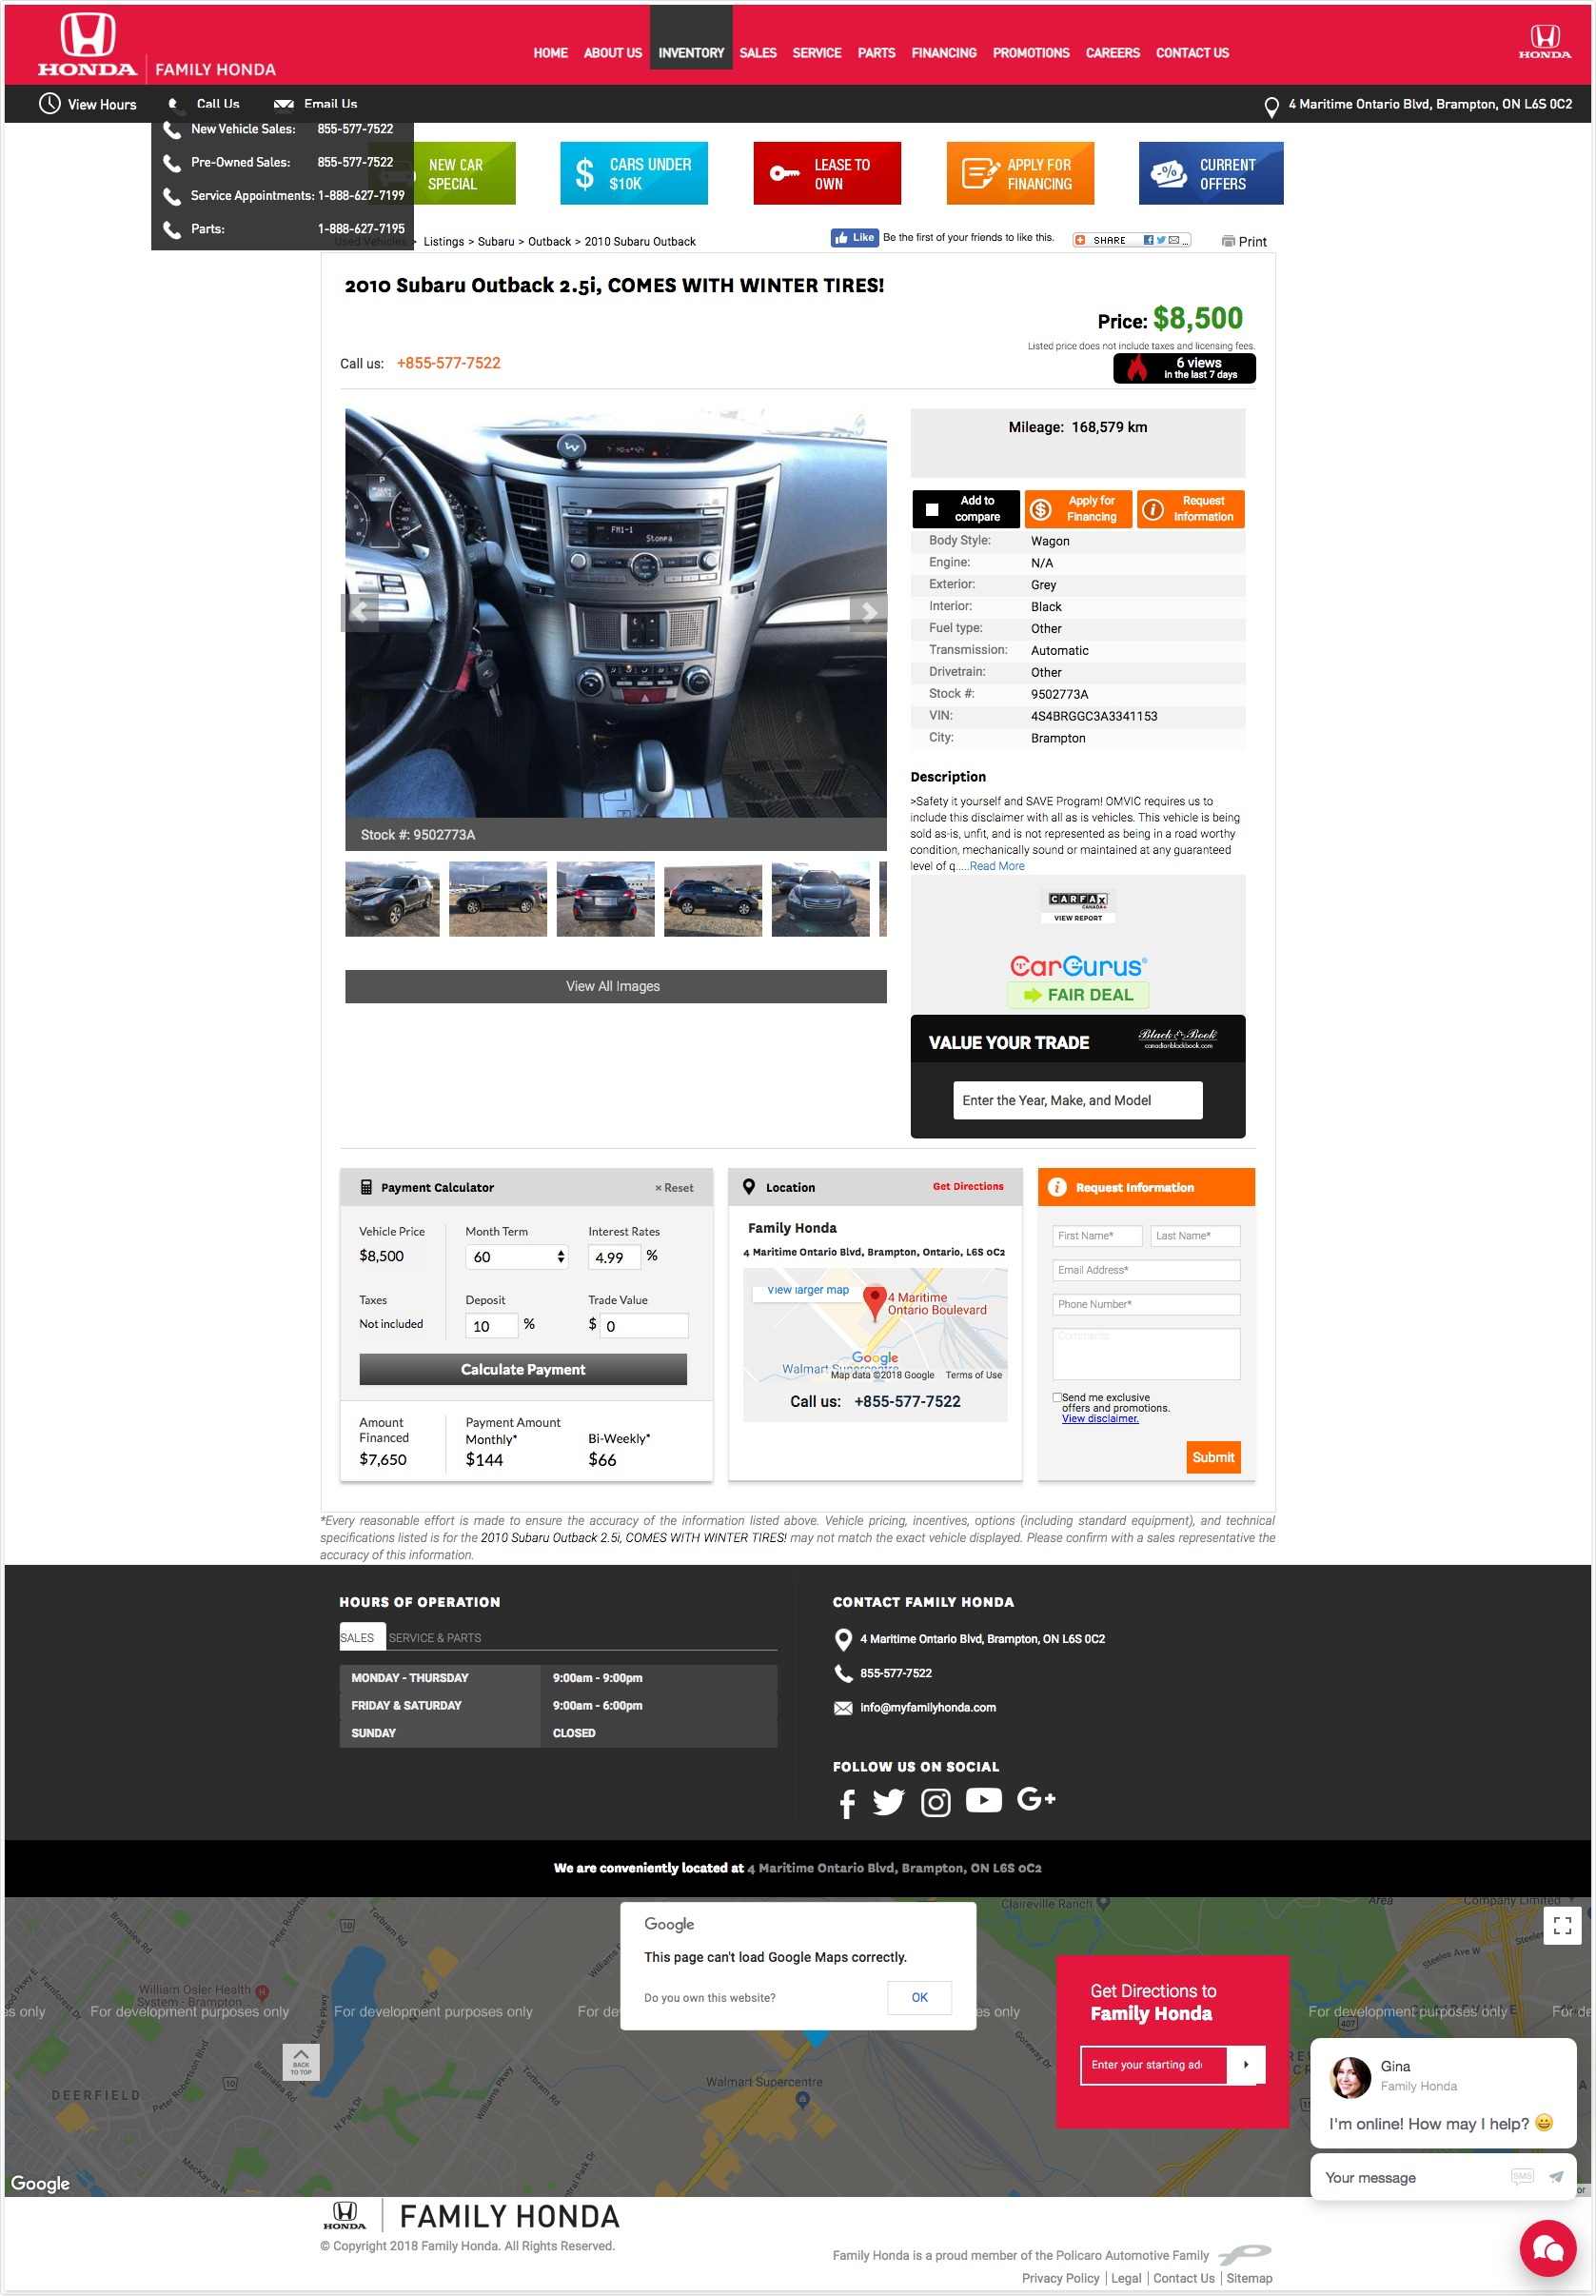car: (848, 593, 890, 633)
